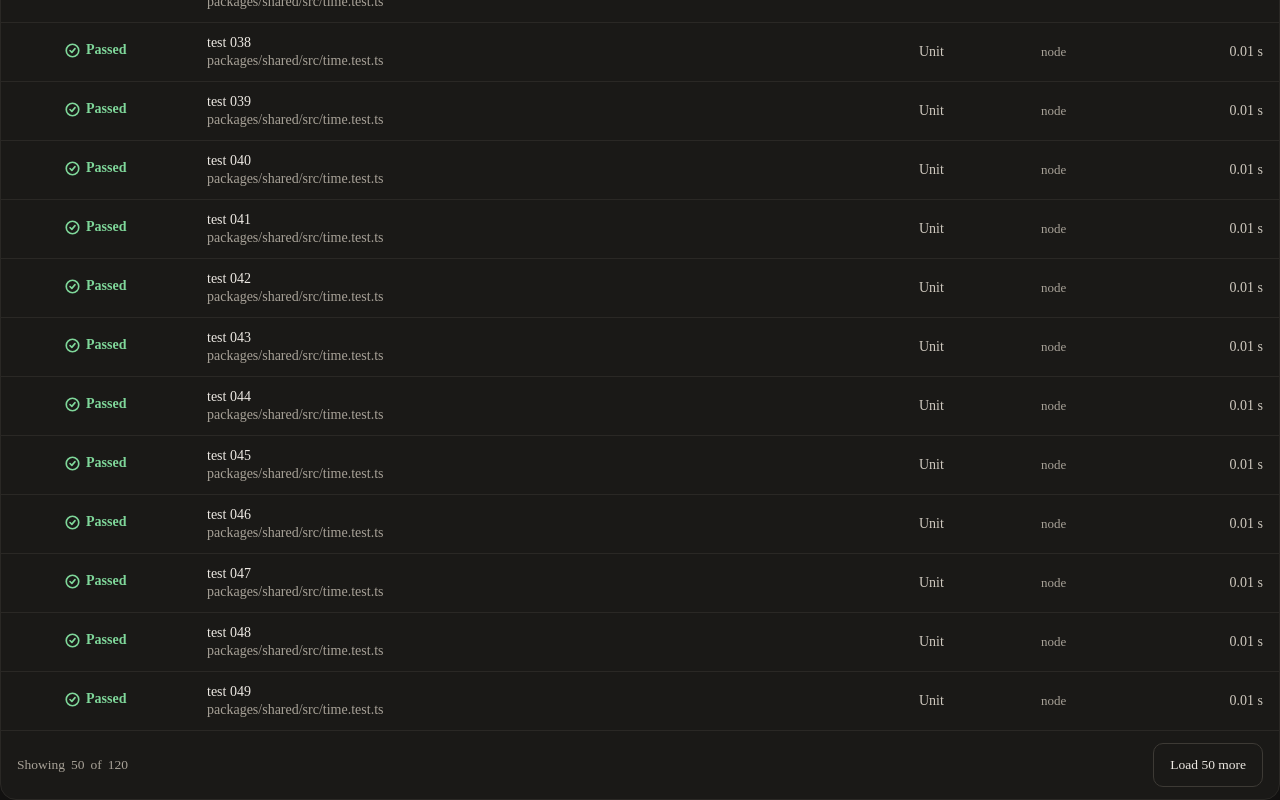
Test: RunResults › shows the first 50 rows, then 50 more each time it is asked
(page scrolled)
Click the button "Load 50 more".
click(1208, 765)  # box top-left (1153, 743), bottom-right (1263, 787)
(page scrolled)
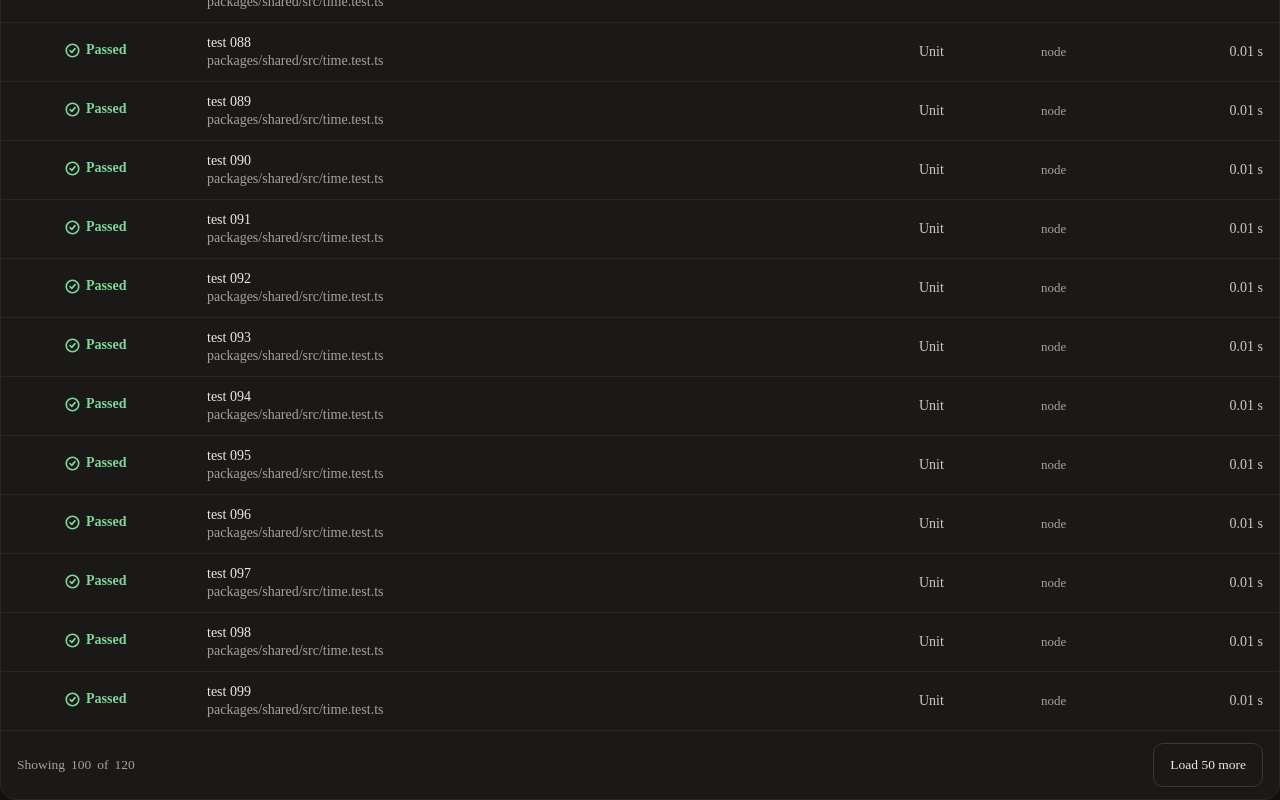
Click the button "Load 50 more".
click(1208, 765)  # box top-left (1153, 743), bottom-right (1263, 787)
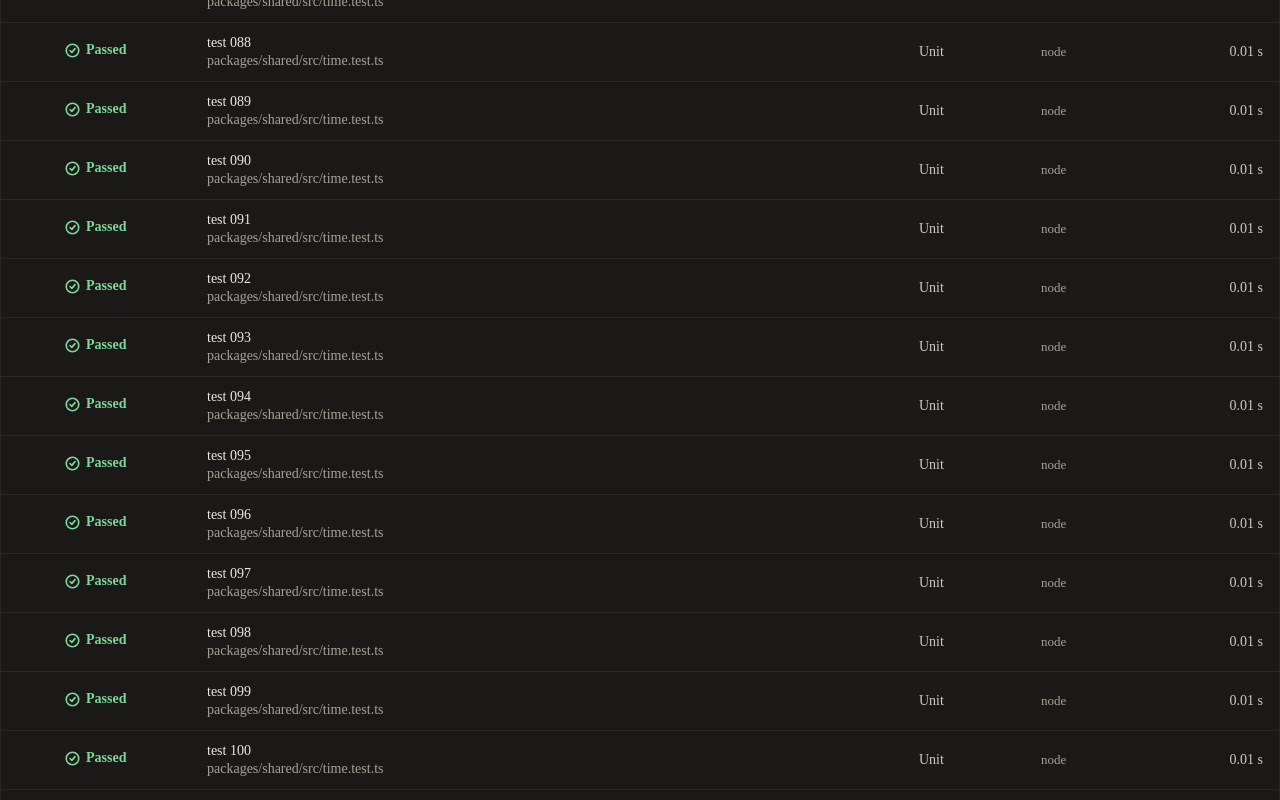
Now the button "Load 50 more" is gone
